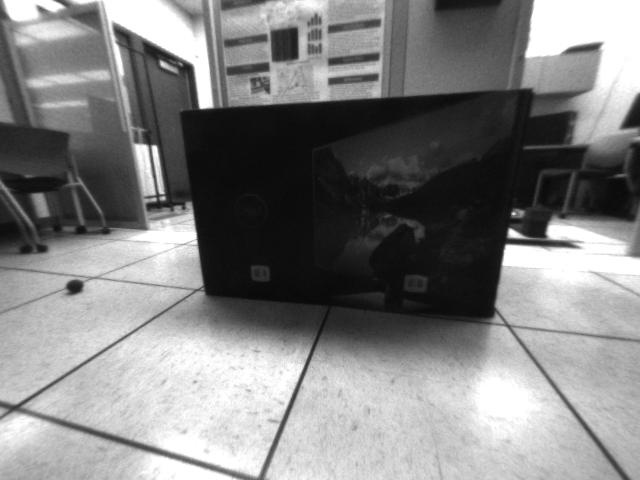dogtoy: (61, 272, 92, 298)
